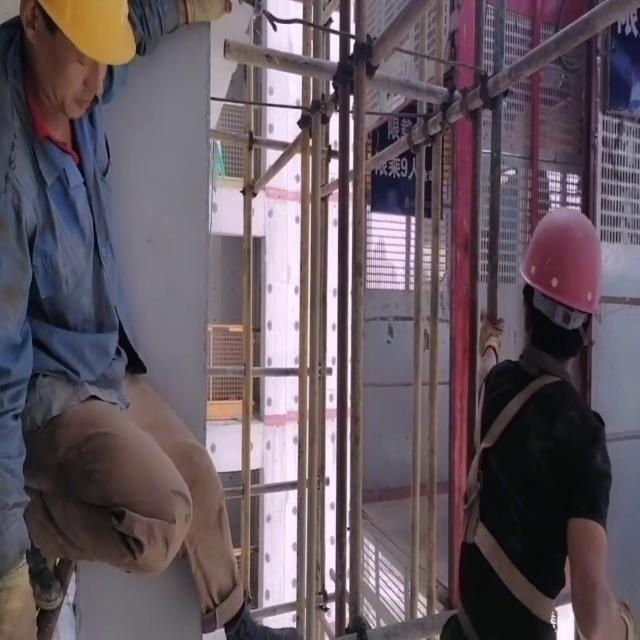Arnes_seguridad: (456, 341, 587, 623)
